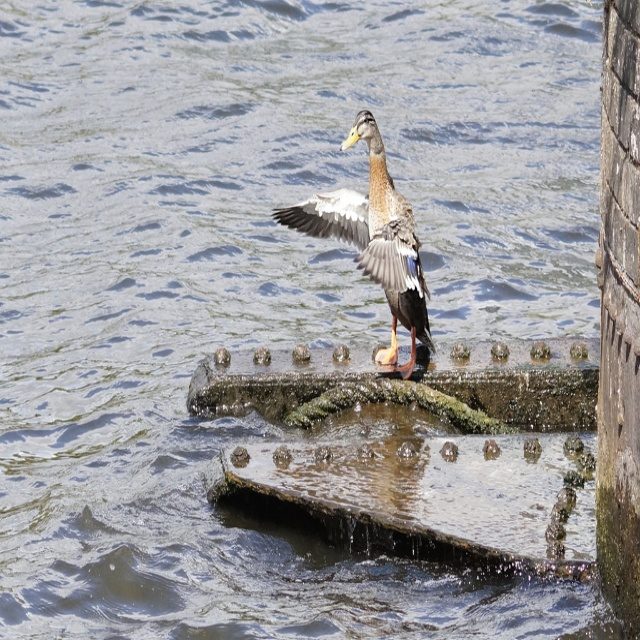Goose: (268, 103, 436, 386)
